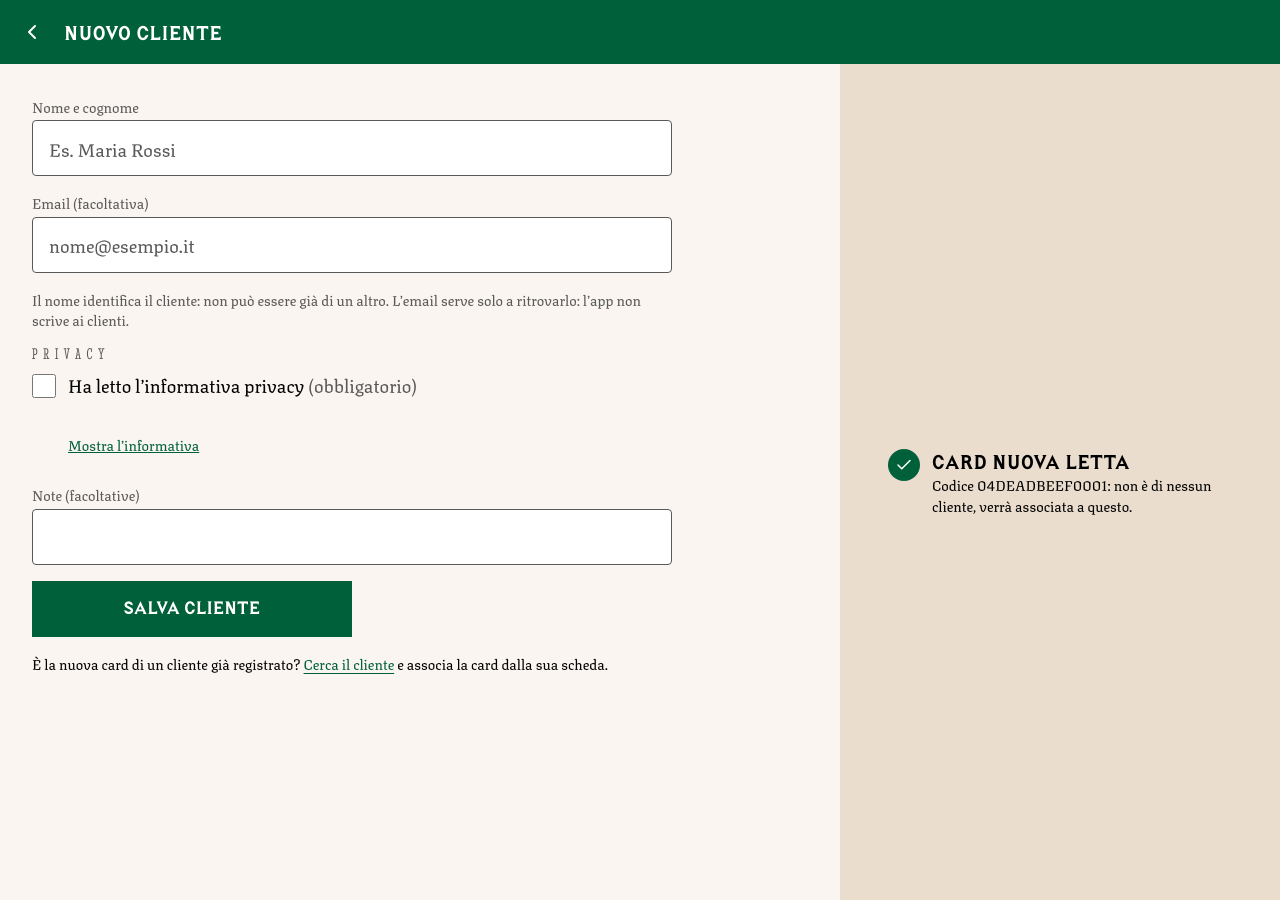
Nuovo cliente: the link written after the save (SPEC-cards, points 2, 3 and 8) › a lost answer and «Riprova» on the save: one customer, the write on its card
This screenshot has width=1280, height=900.
Later steps or results of the test are not shown.
Type "Giulia Bianchi" into the field labelled "Nome e cognome" at {"x": 352, "y": 148}, box [32,120,672,176]
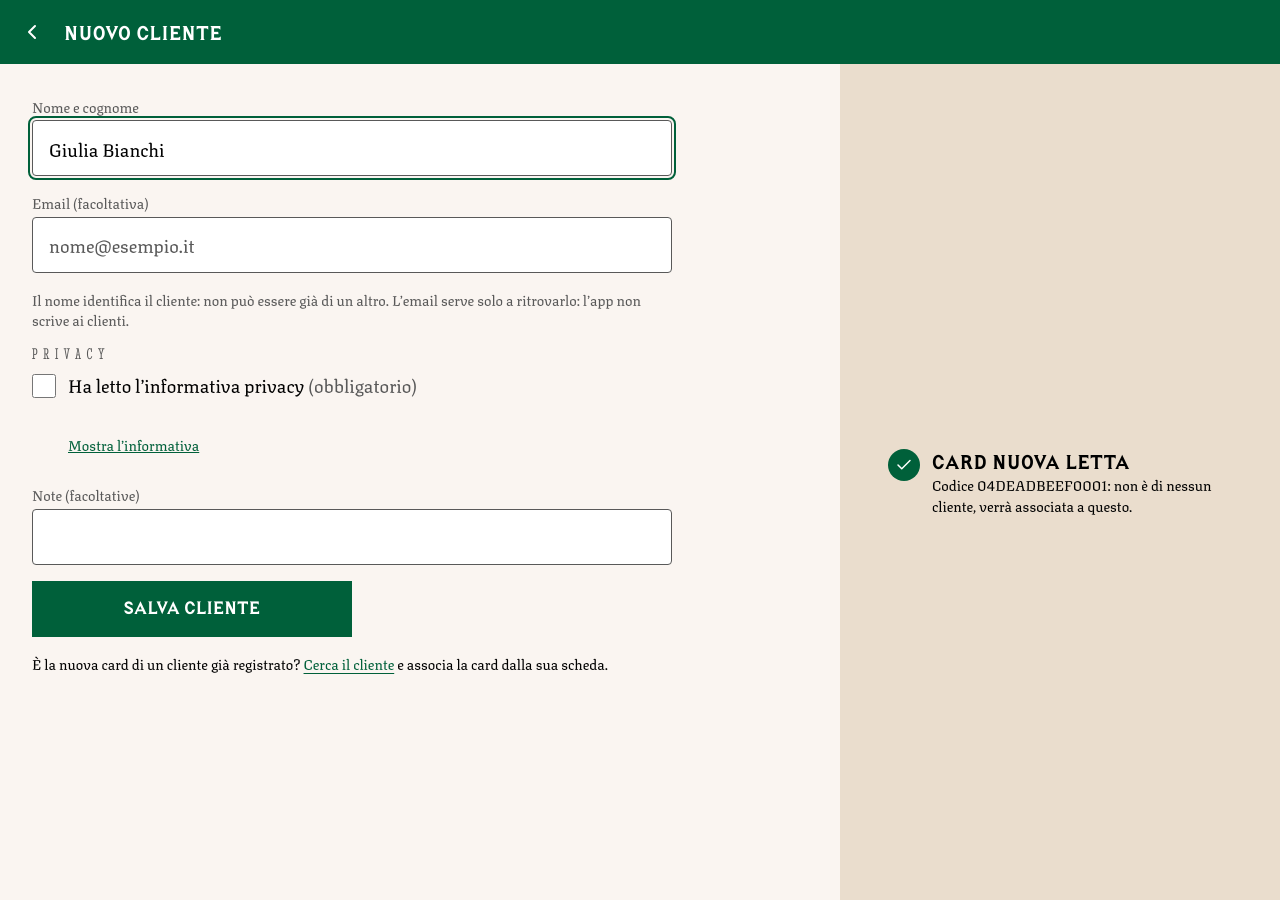
Type "giulia@example.com" into the field labelled "Email (facoltativa)" at {"x": 352, "y": 245}, box [32,217,672,273]
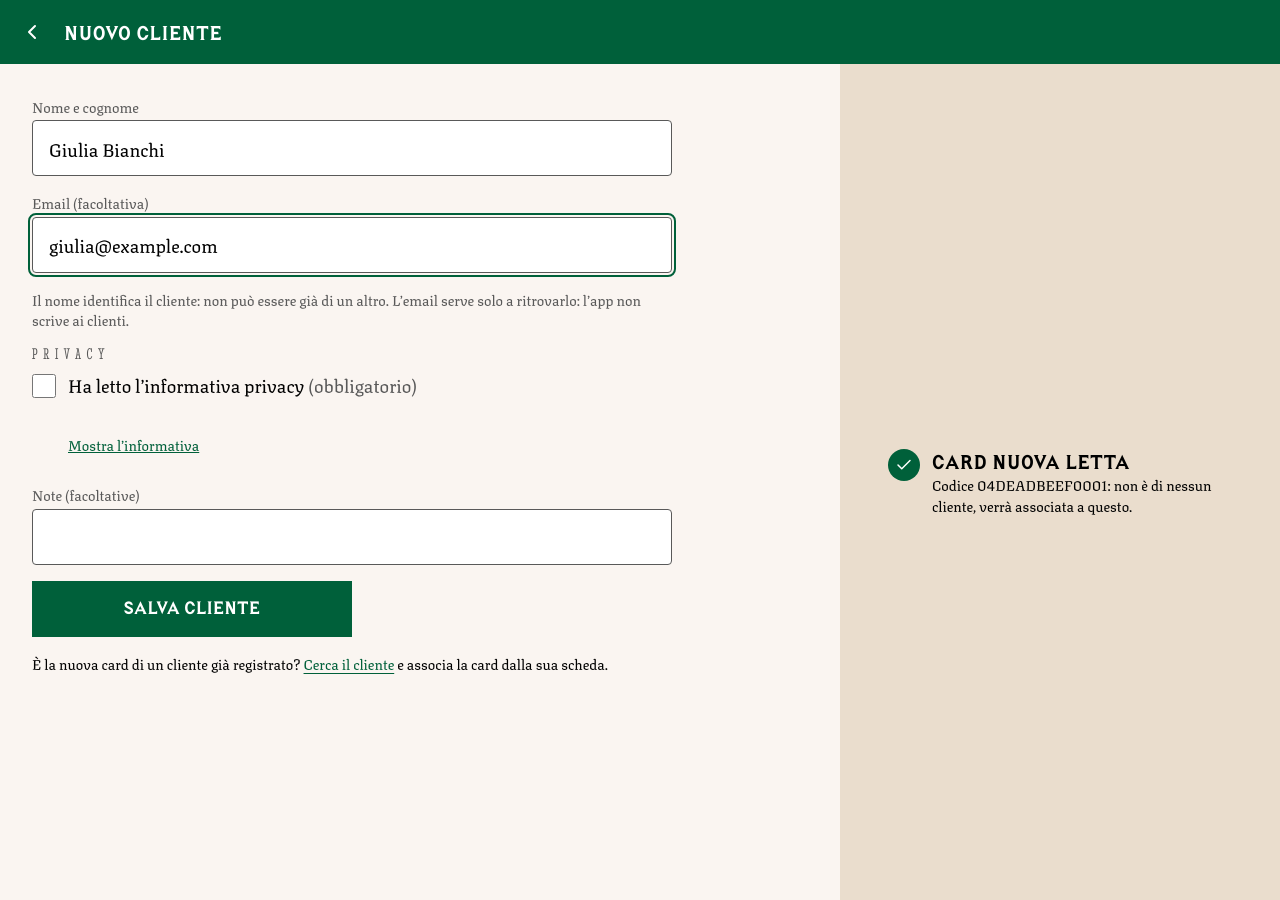
Click the checkbox labelled "Ha letto l’informativa privacy (obbligatorio)" at {"x": 44, "y": 386}, box [32,374,56,398]
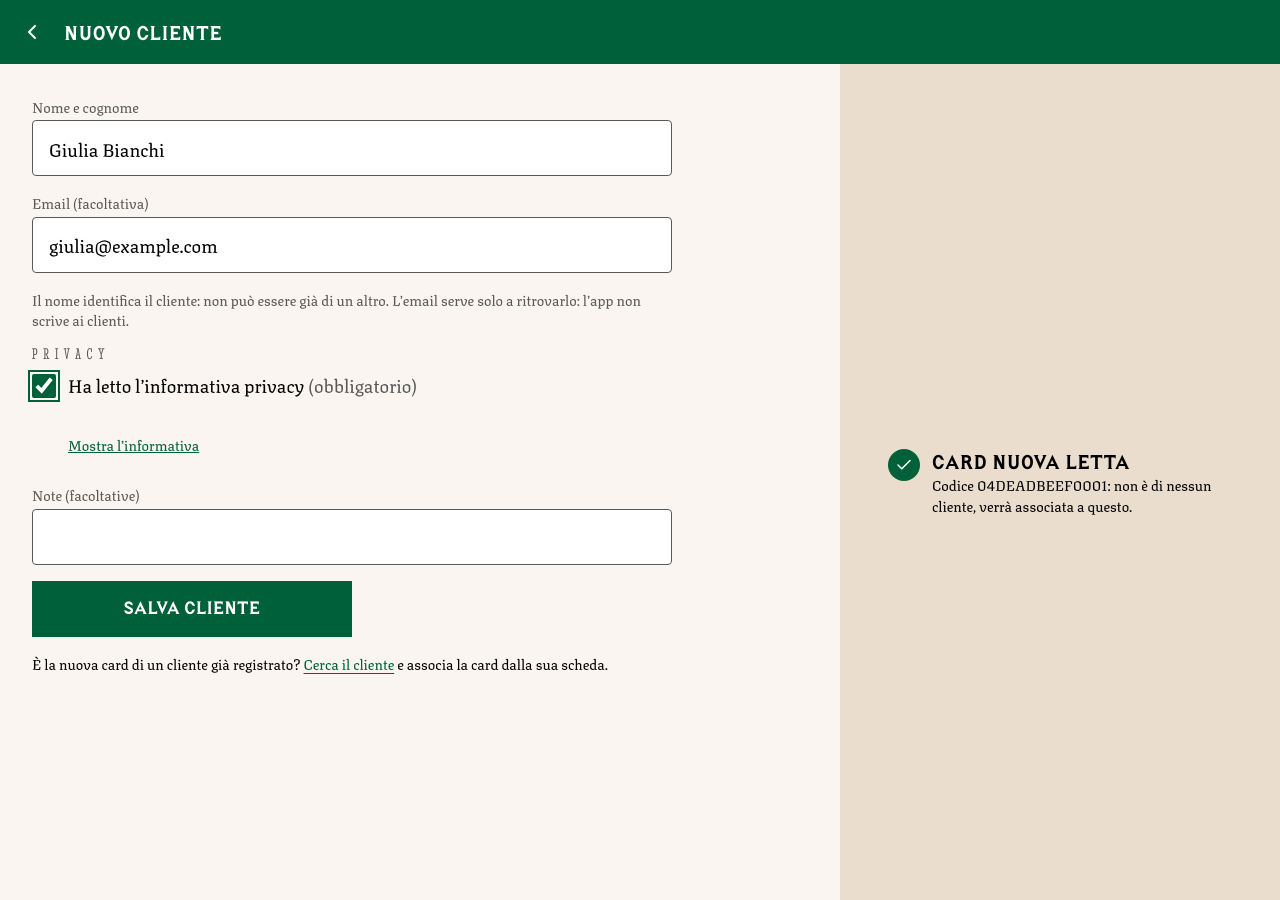
Click the button "Salva cliente" at {"x": 192, "y": 609}, box [32,581,352,637]
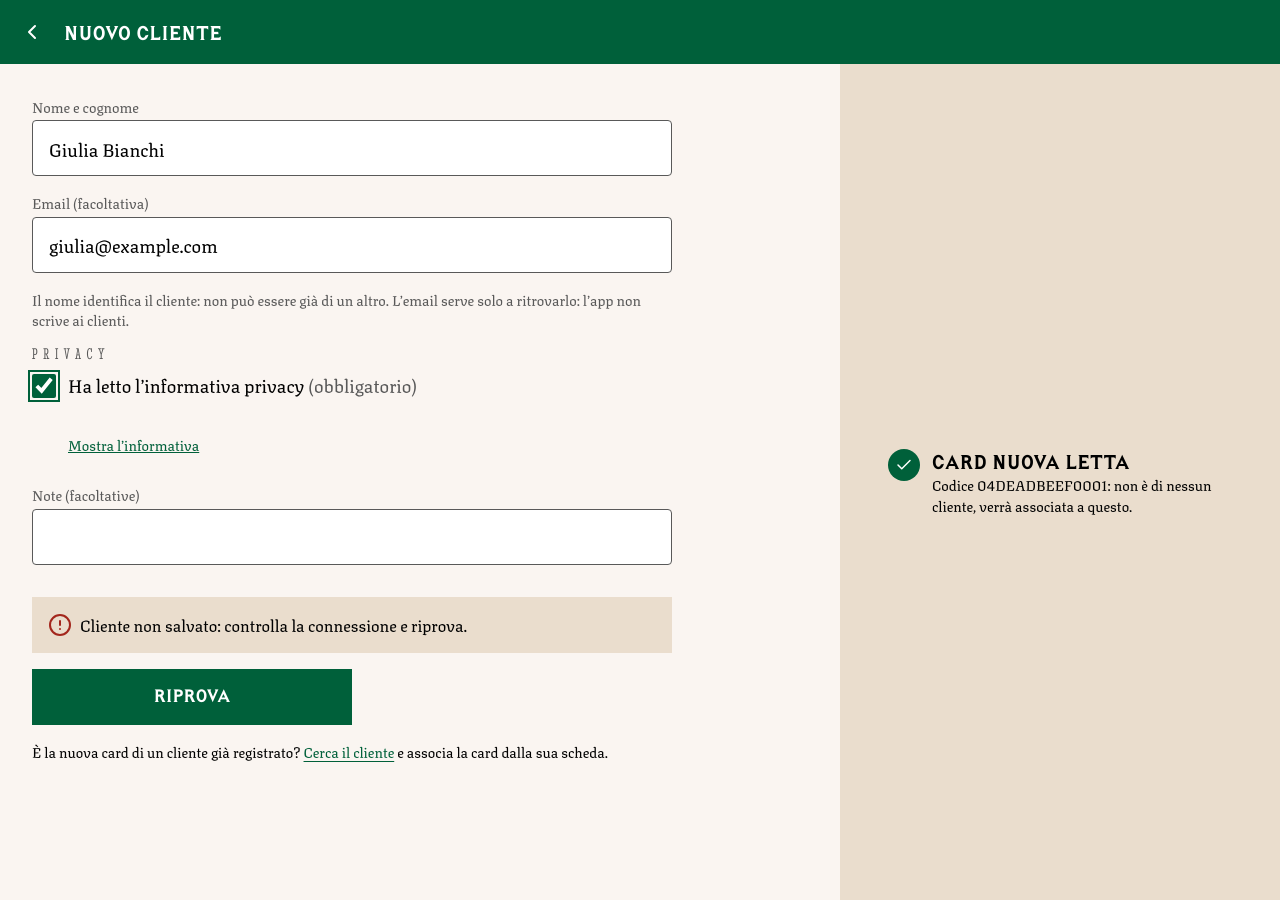
Now the message "Cliente non salvato: controlla la connessione e riprova." is shown, box [32,597,672,653]
